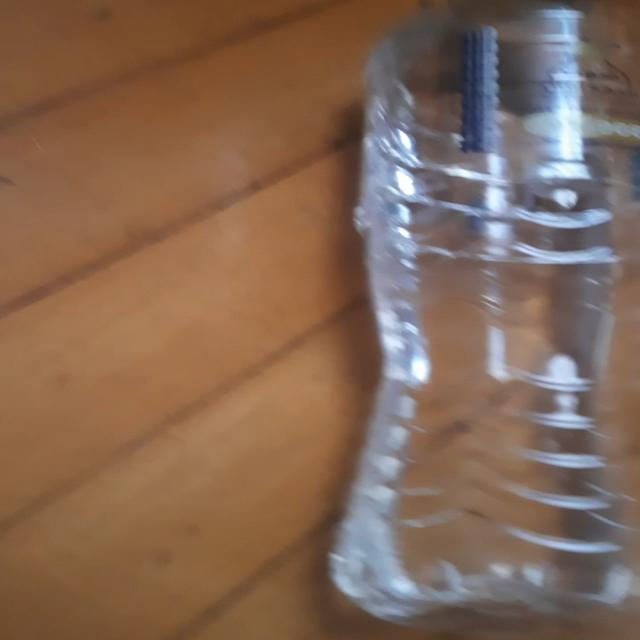Plastic: (323, 0, 640, 640)
